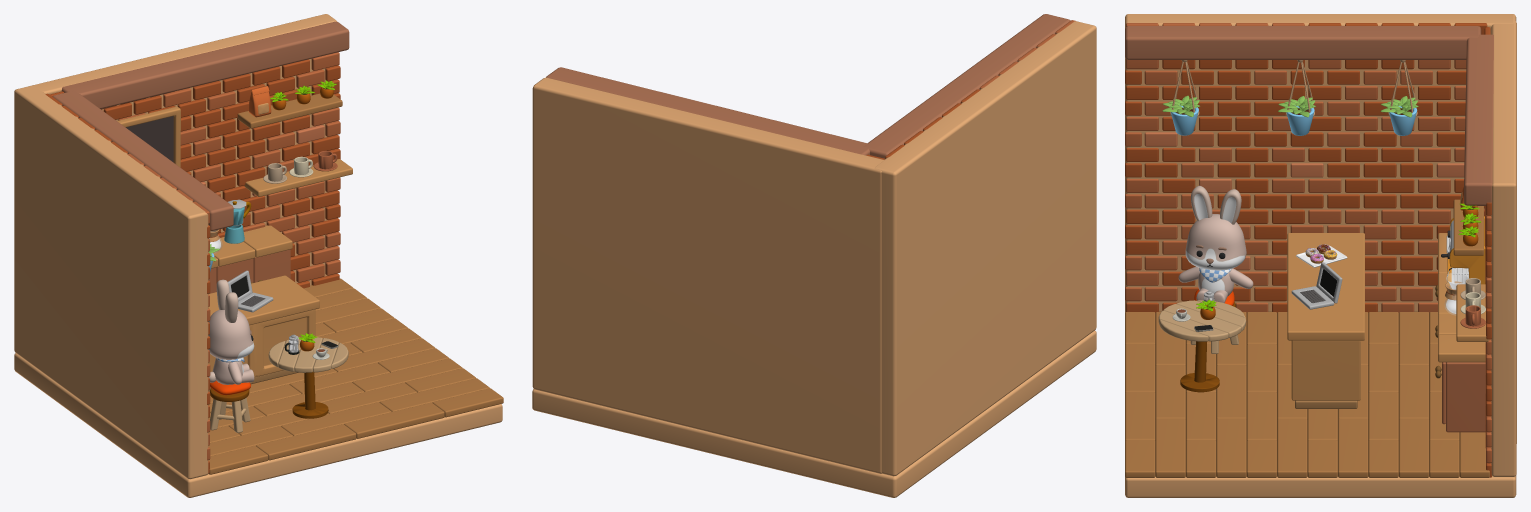
File: coffee-shop-draco.glb
3 views of the same model, side by side, from view 1: azimuth 30°, elevation 25°; view 2: azimuth 150°, elevation 25°; view 3: azimuth 270°, elevation 25° (orthographic). The views are drawn at different scales.
Visible parts, largest first — view 1: SM_floor, SM_wall.001, bunny, SM_cell_phone; view 2: SM_wall.001, SM_floor; view 3: SM_floor, SM_wall.001, bunny, SM_cell_phone.
Boxes of the visible parts, box(x1,y1,x2,y2) form: SM_floor: box(14, 85, 503, 497); SM_wall.001: box(32, 14, 349, 288); bunny: box(208, 279, 254, 384); SM_cell_phone: box(209, 199, 338, 352); SM_wall.001: box(532, 67, 884, 473); SM_floor: box(532, 14, 1096, 497); SM_floor: box(1125, 14, 1516, 497); SM_wall.001: box(1453, 21, 1516, 477); bunny: box(1178, 185, 1253, 302); SM_cell_phone: box(1194, 216, 1485, 331).
Size of the model in its own units: 5.09 by 4.35 by 4.9.
Materials: 9 (5 with a texture image).
